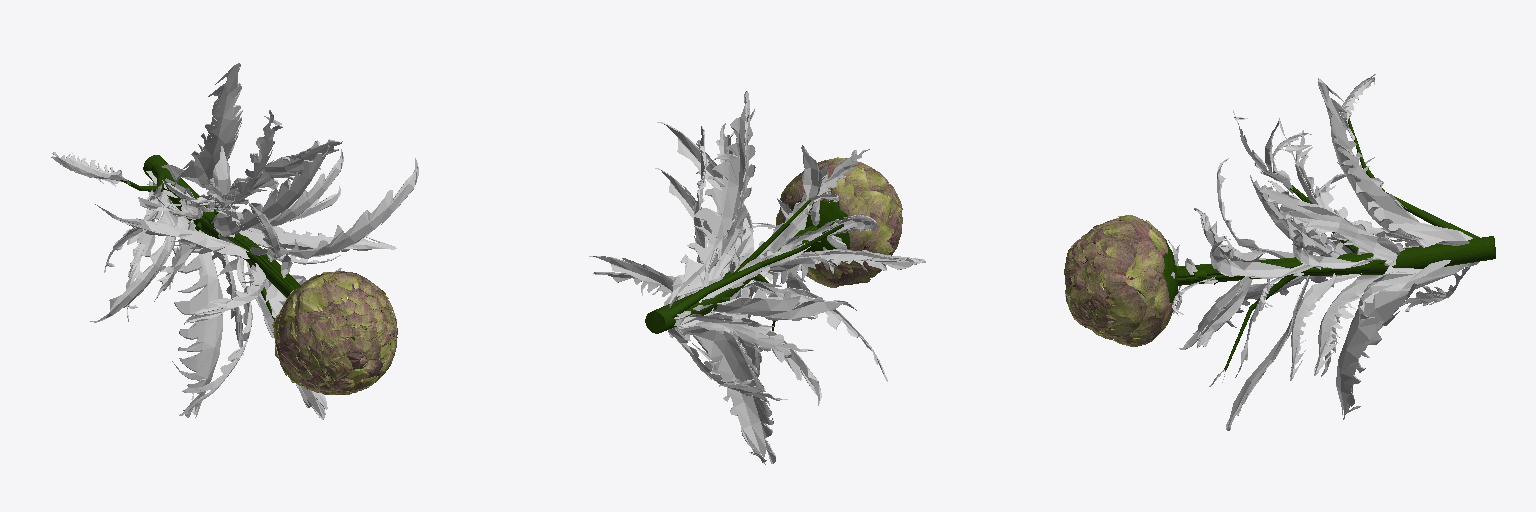
3 views of the same model, side by side, from view 1: azimuth 30°, elevation 25°; view 2: azimuth 150°, elevation 25°; view 3: azimuth 270°, elevation 25° (orthographic).
Visible parts, largest first — view 1: plant_Plane.302; view 2: plant_Plane.302; view 3: plant_Plane.302.
Part boxes in pixels (left/top/right/bottom): plant_Plane.302: left=51, top=63, right=418, bottom=419; plant_Plane.302: left=589, top=91, right=925, bottom=464; plant_Plane.302: left=1064, top=74, right=1495, bottom=430.
Size of the model in its own units: 1.07 by 1.16 by 1.27.
3 materials, 2 textured.